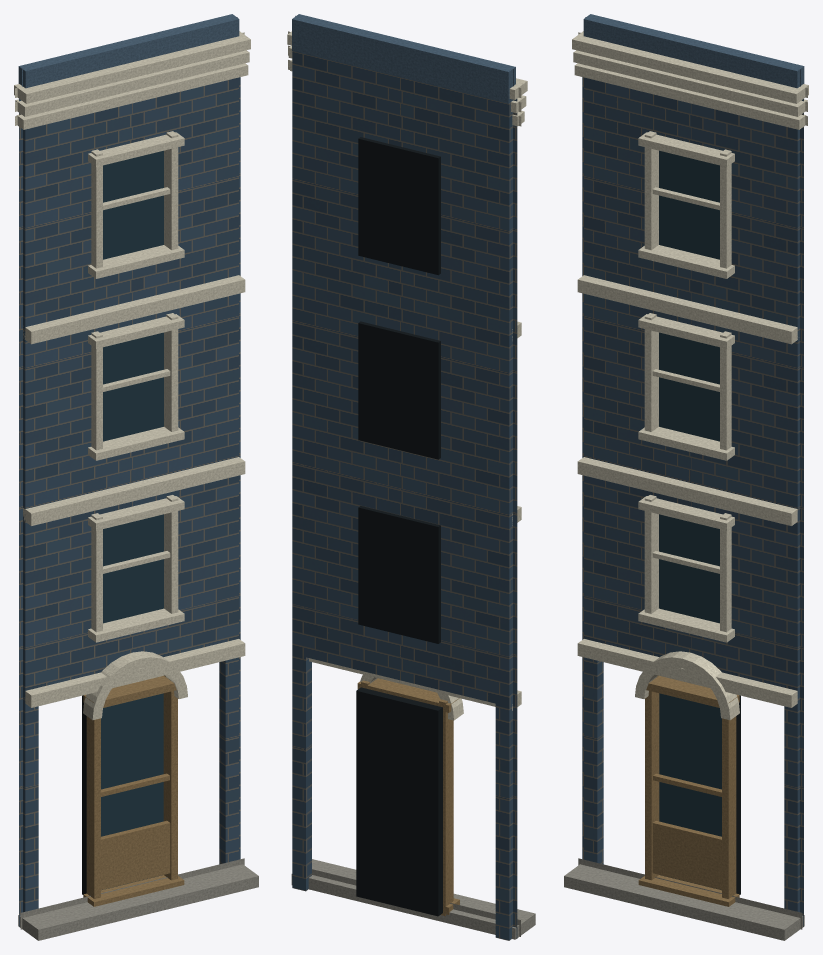
File: OFFC5_lod2.glb
3 renders of one model, left to right at view 1: azimuth 30°, elevation 25°; view 2: azimuth 150°, elevation 25°; view 3: azimuth 330°, elevation 25°, orthographic.
Visible parts, largest first — view 1: OFFC5_FRONT_LOD2; view 2: OFFC5_FRONT_LOD2; view 3: OFFC5_FRONT_LOD2.
Part boxes in pixels (<box>): OFFC5_FRONT_LOD2: <box>14,14,258,940</box>; OFFC5_FRONT_LOD2: <box>287,14,535,940</box>; OFFC5_FRONT_LOD2: <box>564,14,808,940</box>.
Bounding box in the file's own units: 3.44 × 12.26 × 0.68.
Materials: 8 (6 with a texture image).
